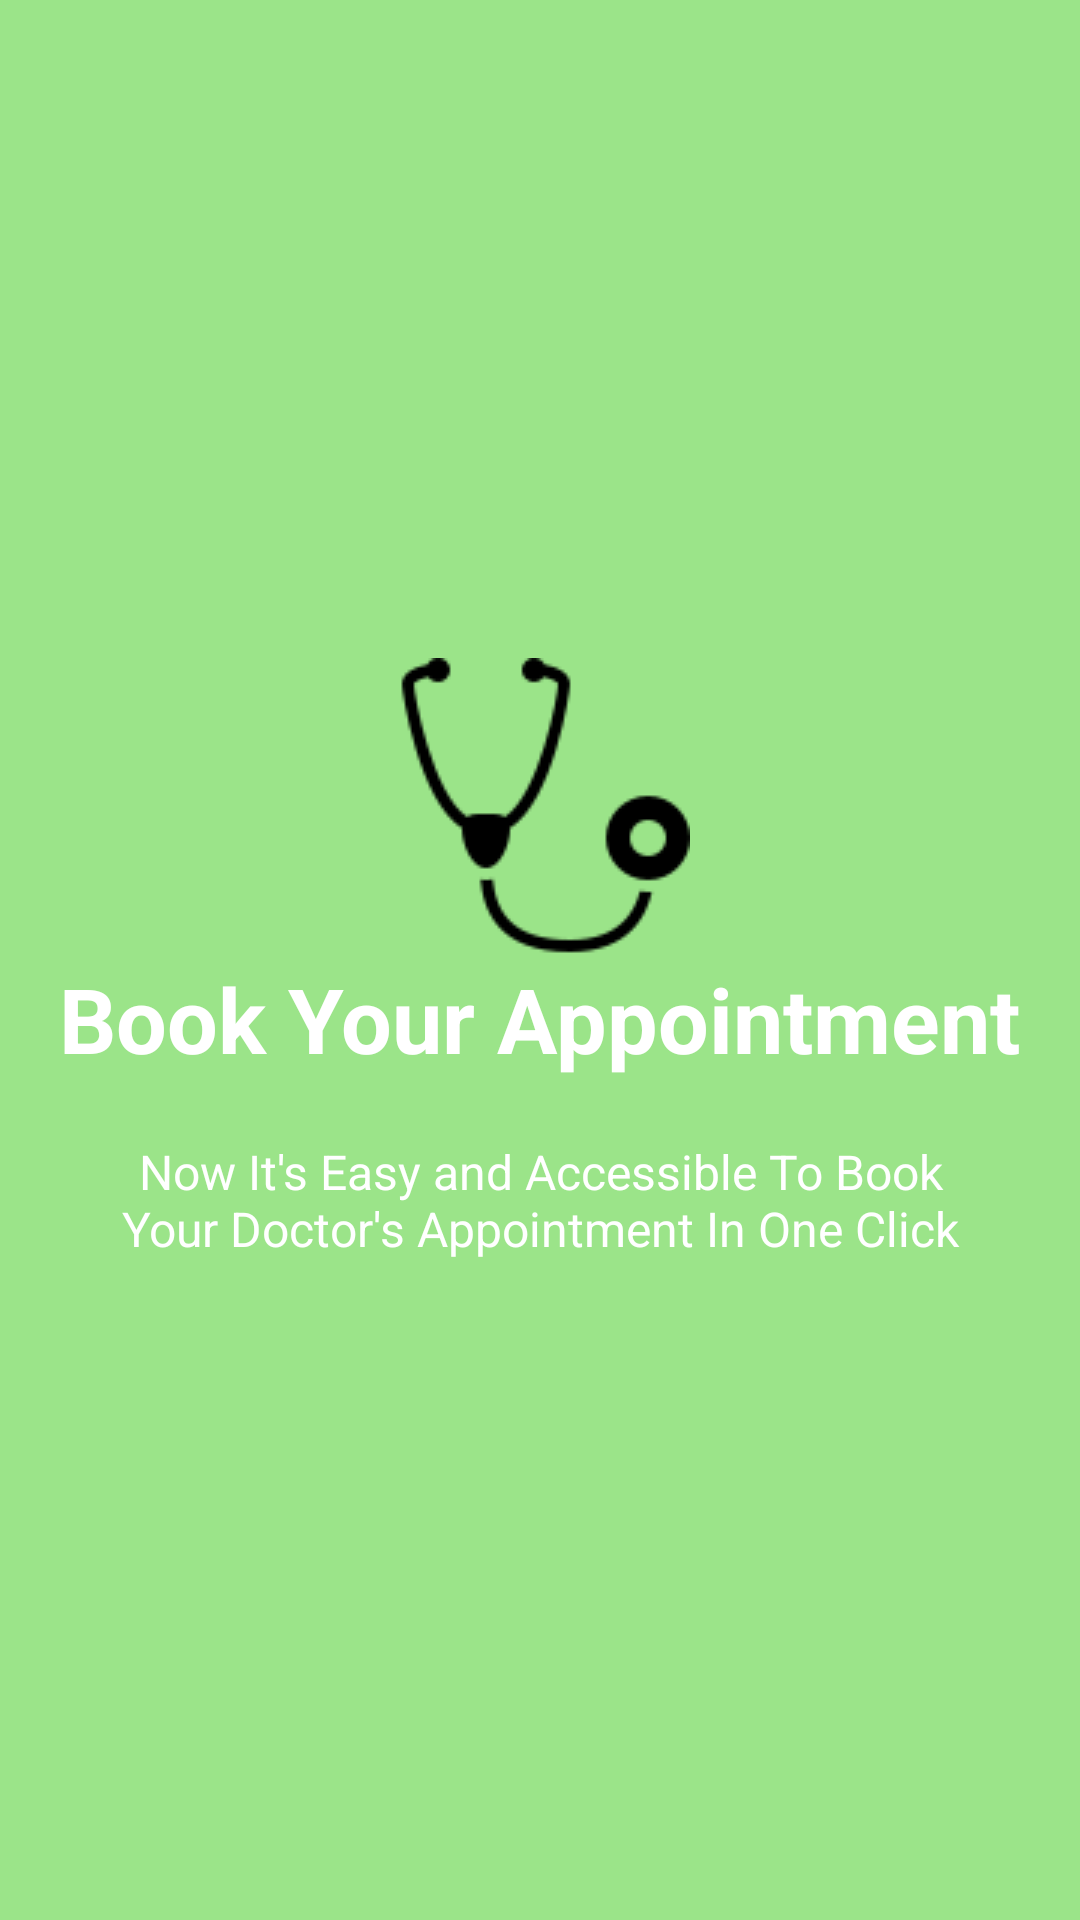

Point at icon controls on the screen. Image size 1080 × 1920, points as (x=x, y=y).
sthe: (x=545, y=805)
